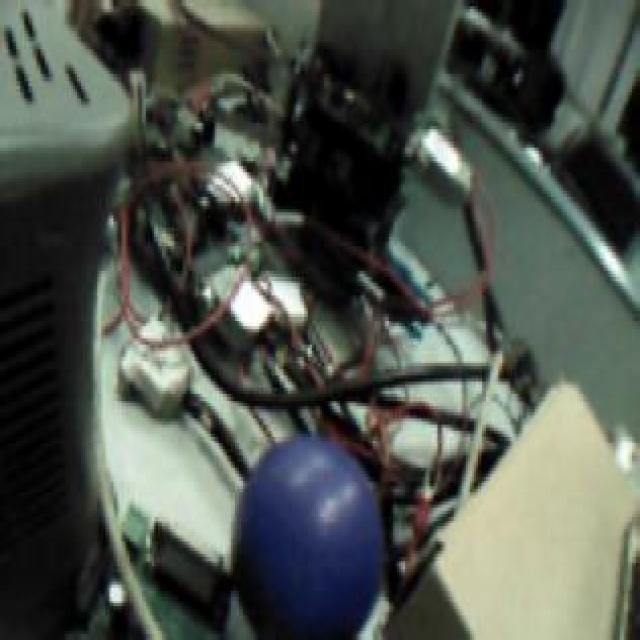BallPurple: (231, 434, 383, 640)
